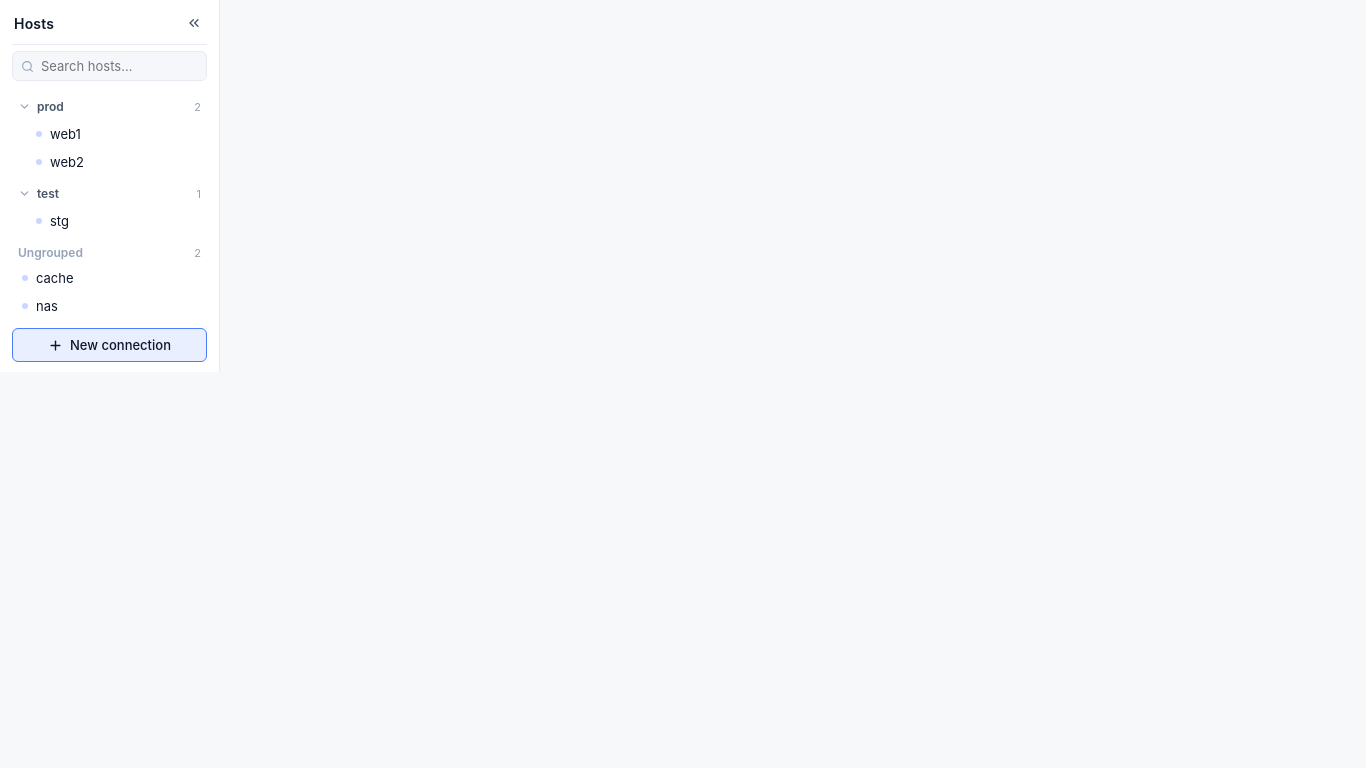
Test: Drawer — moving hosts into groups › a failed move is reported, not swallowed
The width and height of the screenshot is (1366, 768).
Right-click the button "cache": point(94, 278) [14,264,175,292]
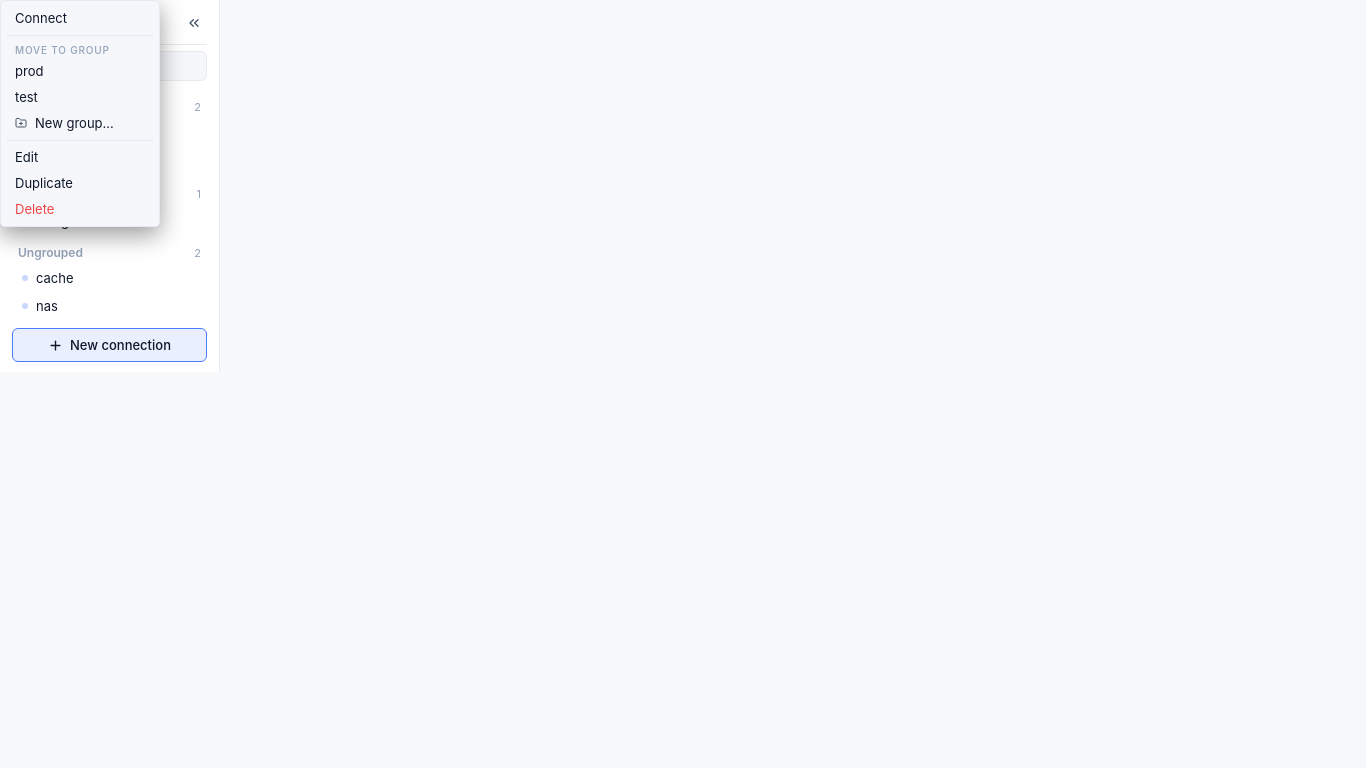
Click the menu item "prod": point(80, 70) [5,58,155,84]
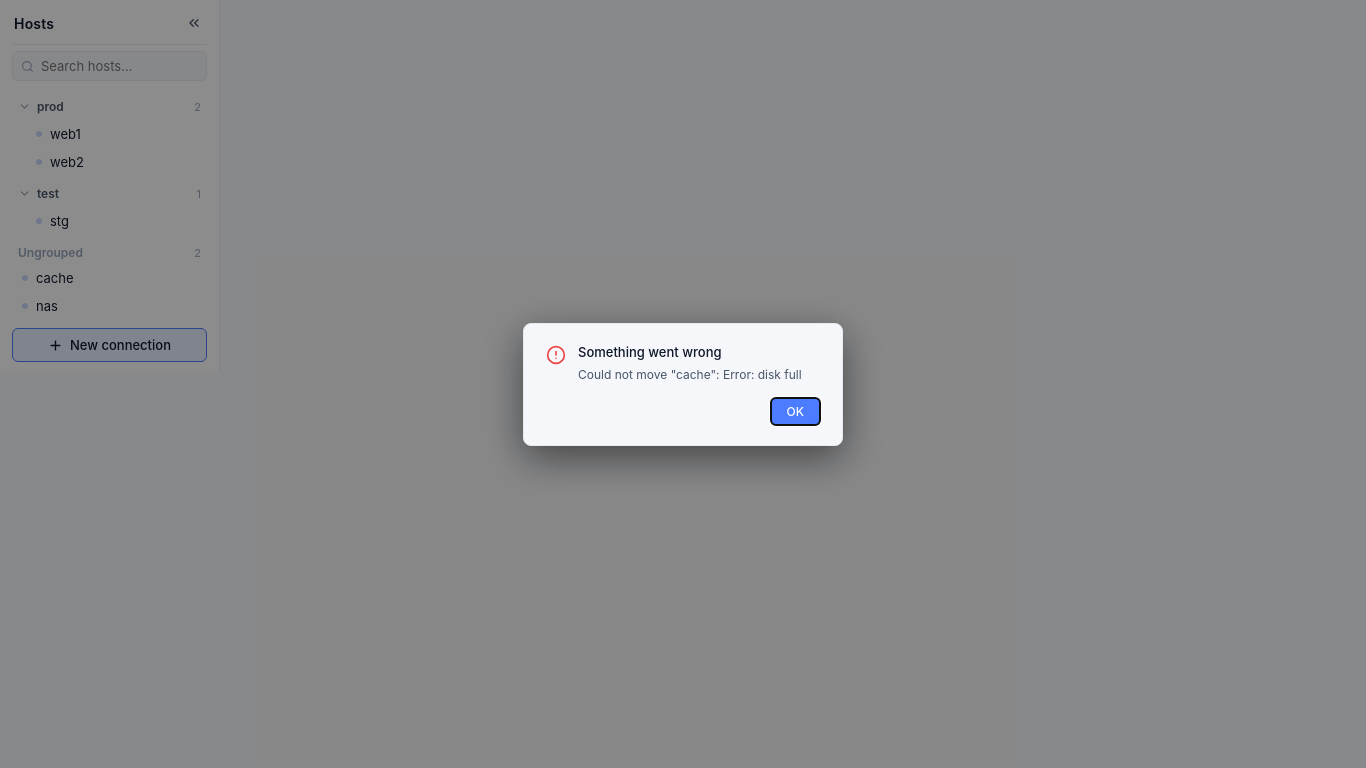
Check: the text "Could not move \"cache\": Error: disk full" is shown, box [578,366,820,384]
